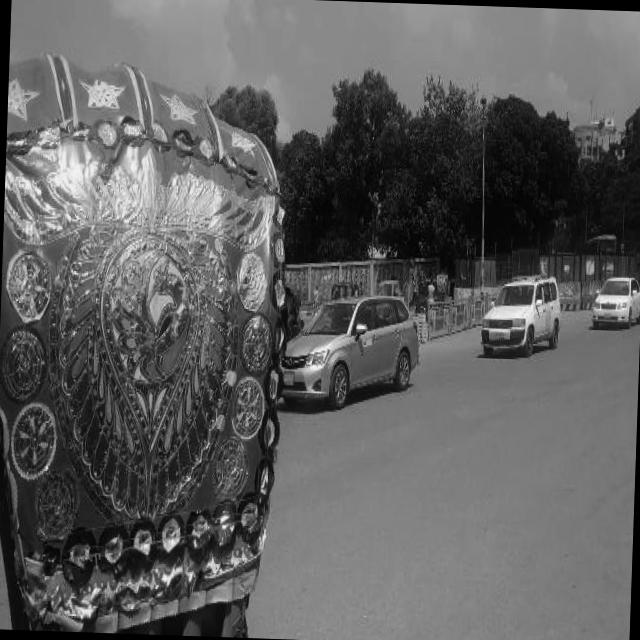car: (281, 294, 421, 405), (479, 268, 562, 360), (588, 274, 638, 333)
motorcycle: (282, 280, 306, 336), (374, 278, 402, 298), (433, 270, 450, 300), (330, 280, 354, 296)
